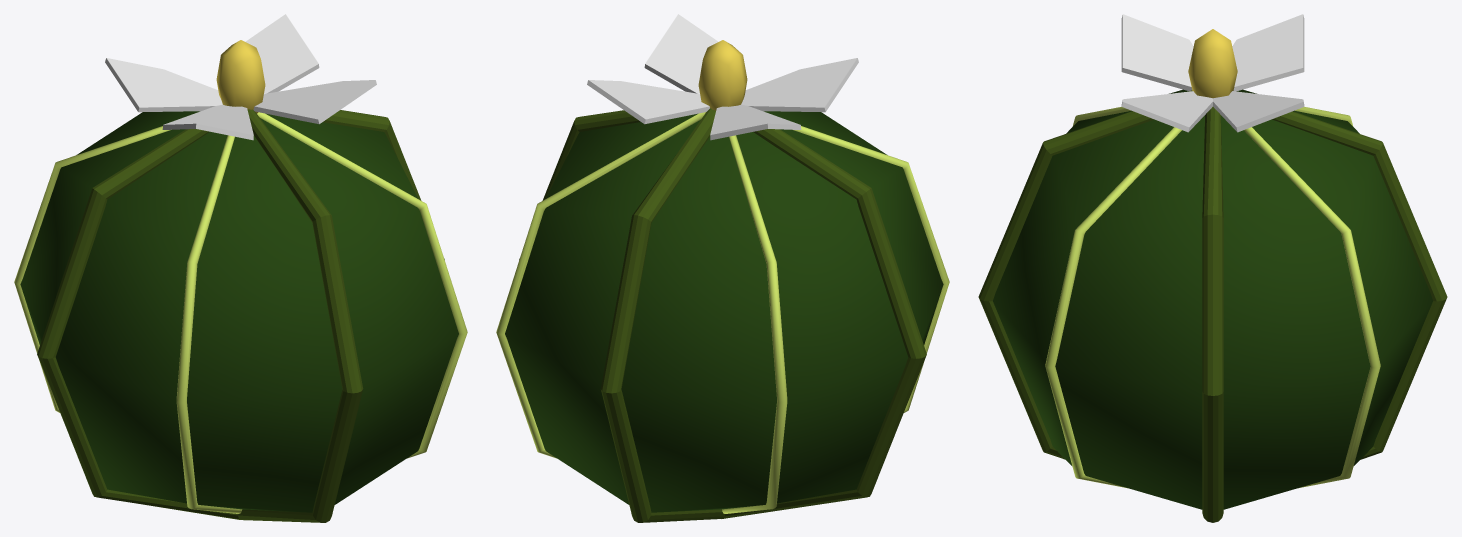
File: CactusOrb.glb
3 renders of one model, left to right at view 1: azimuth 30°, elevation 25°; view 2: azimuth 150°, elevation 25°; view 3: azimuth 270°, elevation 25°, orthographic.
Visible parts, largest first — view 1: Cube, Cube.003, Plane, Cube.002, Cube.001; view 2: Cube, Cube.003, Plane, Cube.002, Cube.001; view 3: Cube, Cube.003, Plane, Cube.002, Cube.001.
Boxes of the visible parts, bbox=[...] form: Cube: bbox=[20, 111, 458, 512]; Cube.003: bbox=[37, 109, 444, 522]; Plane: bbox=[105, 14, 376, 140]; Cube.002: bbox=[14, 112, 467, 513]; Cube.001: bbox=[216, 40, 265, 113]; Cube: bbox=[505, 111, 943, 512]; Cube.003: bbox=[519, 108, 926, 522]; Plane: bbox=[587, 14, 858, 140]; Cube.002: bbox=[496, 112, 949, 513]; Cube.001: bbox=[698, 40, 747, 112]; Cube: bbox=[993, 89, 1432, 509]; Cube.003: bbox=[978, 90, 1447, 522]; Plane: bbox=[1121, 14, 1304, 132]; Cube.002: bbox=[1045, 107, 1380, 488]; Cube.001: bbox=[1188, 29, 1237, 98].
Size of the model in its own units: 1.76 by 1.99 by 1.76.
